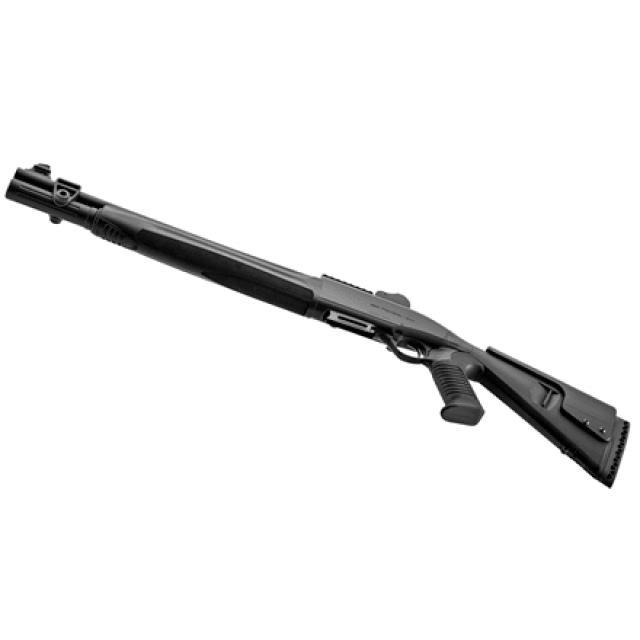shotgun: (5, 153, 637, 516)
